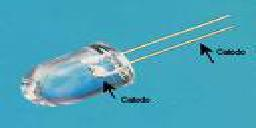LED: (16, 43, 144, 104)
